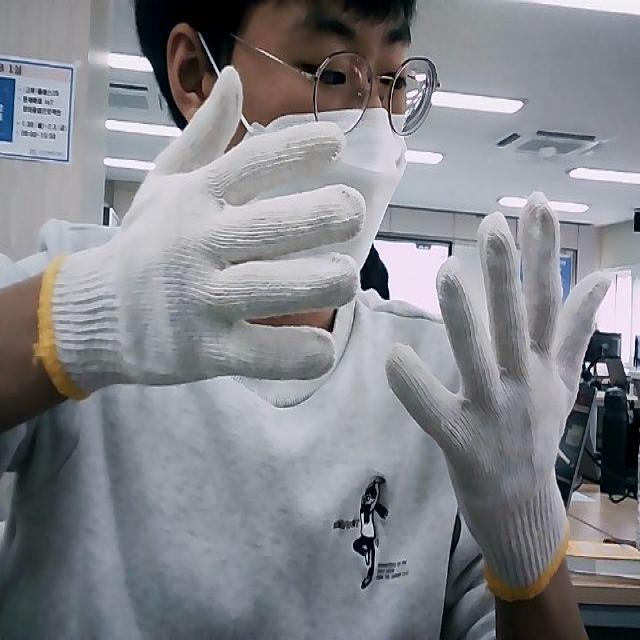Guantes: (37, 67, 365, 401), (385, 190, 613, 599)
